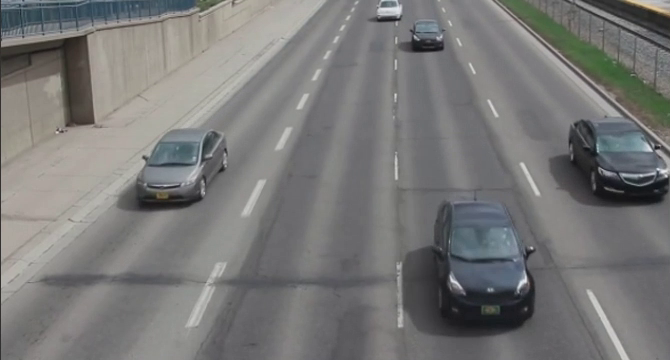car: (433, 197, 542, 333), (563, 109, 670, 209), (133, 120, 240, 220), (408, 21, 448, 53), (376, 2, 406, 22)
